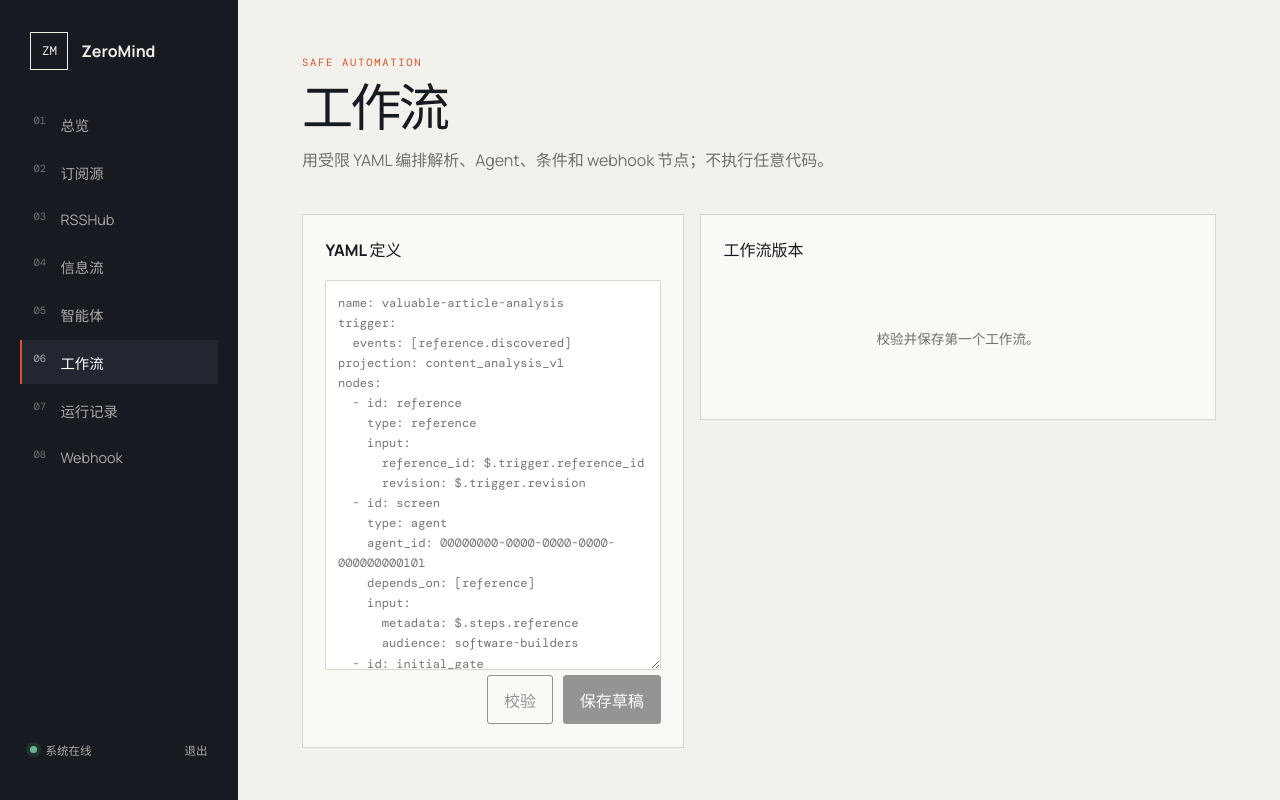
Test: ZeroMind administration › renders workflow validation errors returned by the API
This screenshot has width=1280, height=800.
In the text box named "YAML 定义": [493, 475] box [325,280,661,670], type "name: cyclic"
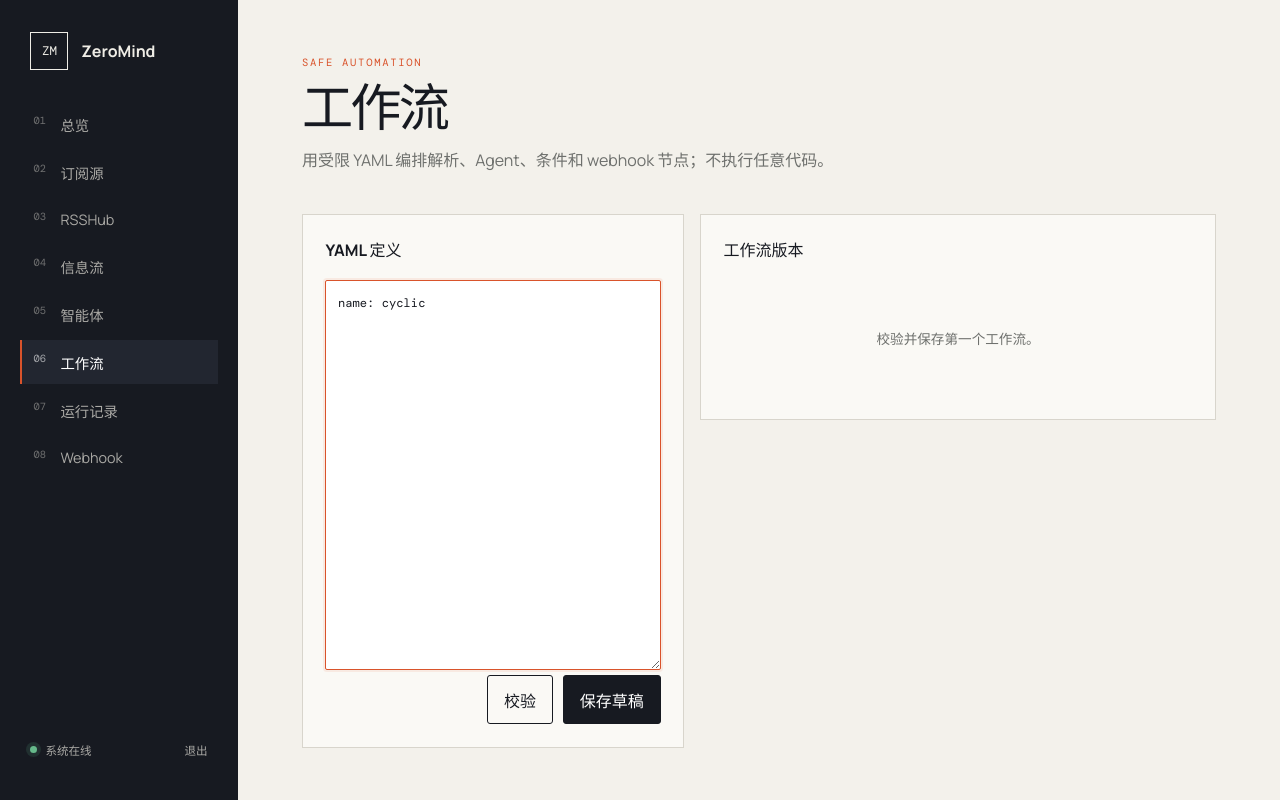
Click the button "校验": [520, 700] box [487,675,553,724]
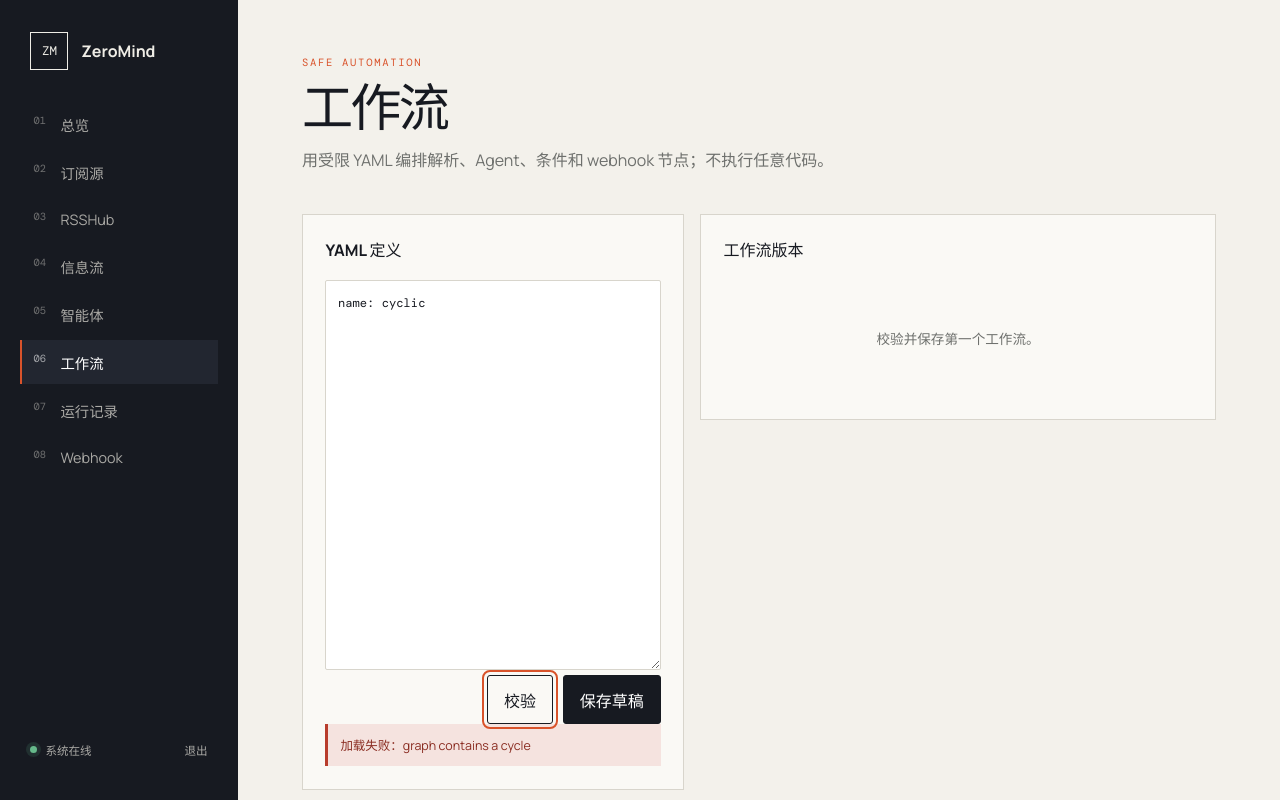
Expected: the message shows "graph contains a cycle", [403,737,531,754]
